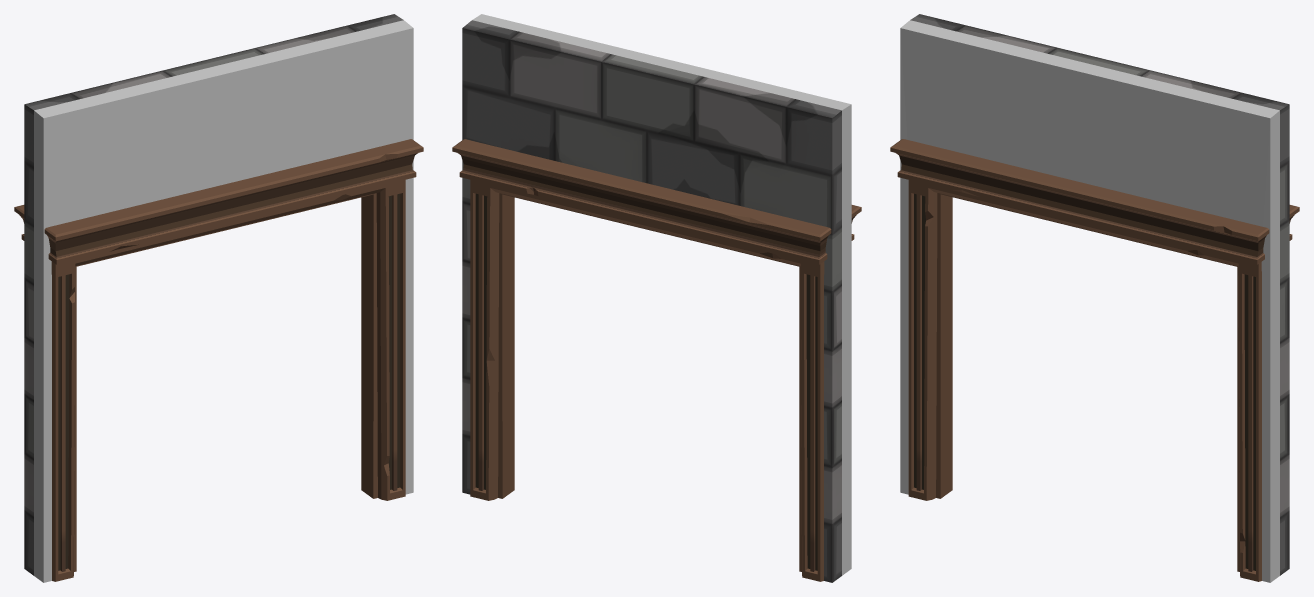
File: SM_Bld_Wall_Door_Double_01.fbx
3 views of the same model, side by side, from view 1: azimuth 30°, elevation 25°; view 2: azimuth 150°, elevation 25°; view 3: azimuth 330°, elevation 25° (orthographic).
Visible parts, largest first — view 1: SM_Bld_Wall_Door_Double_01; view 2: SM_Bld_Wall_Door_Double_01; view 3: SM_Bld_Wall_Door_Double_01.
Part boxes in pixels (bbox=[...]): SM_Bld_Wall_Door_Double_01: bbox=[14, 14, 423, 582]; SM_Bld_Wall_Door_Double_01: bbox=[452, 14, 861, 582]; SM_Bld_Wall_Door_Double_01: bbox=[890, 14, 1299, 582].
Bounding box in the file's own units: 250 × 301 × 48.49.
